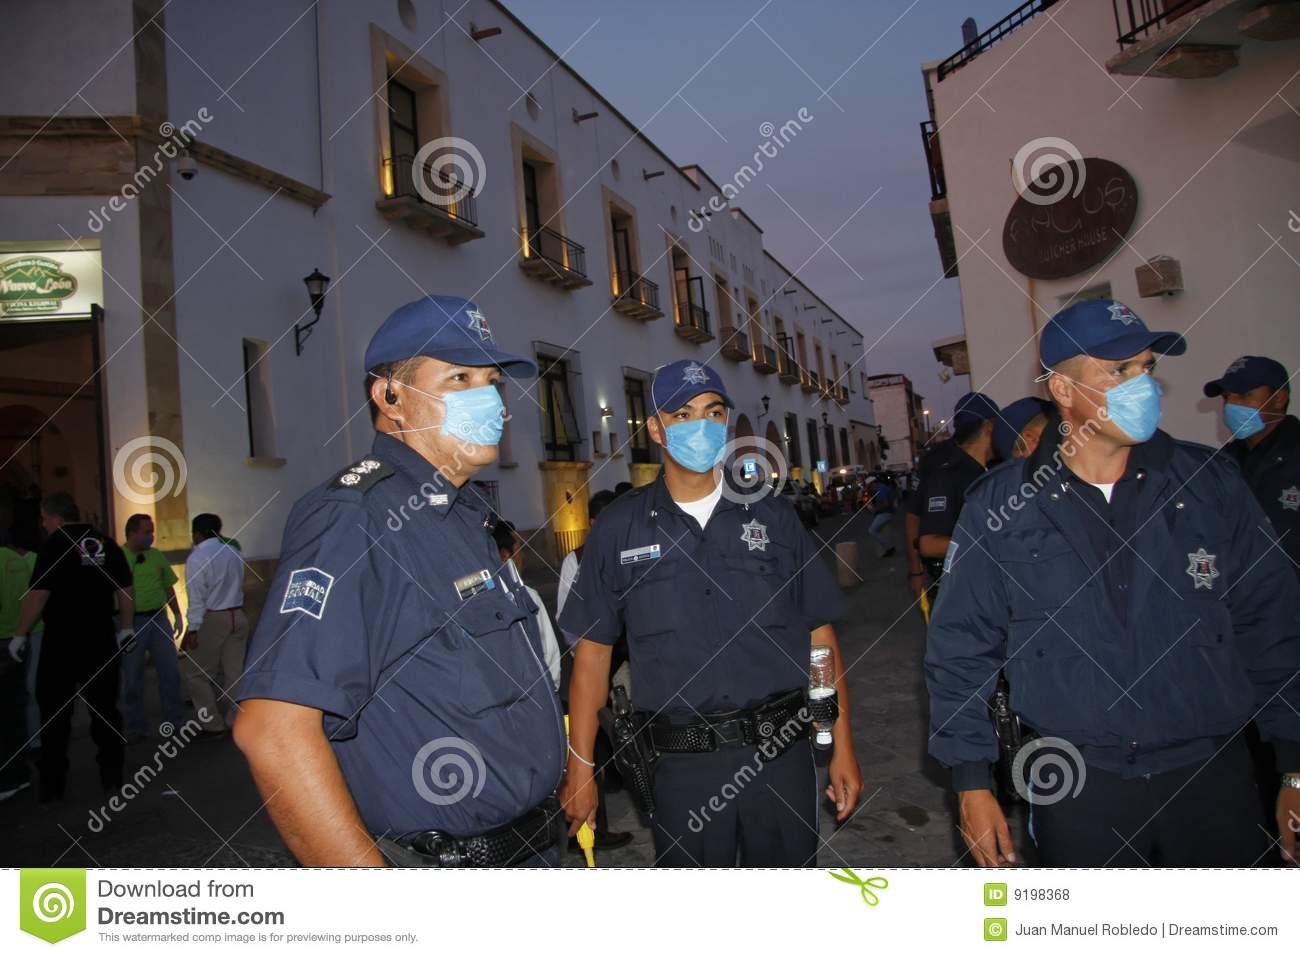mask: (435, 382, 507, 451), (1106, 374, 1164, 444), (665, 421, 728, 473)
